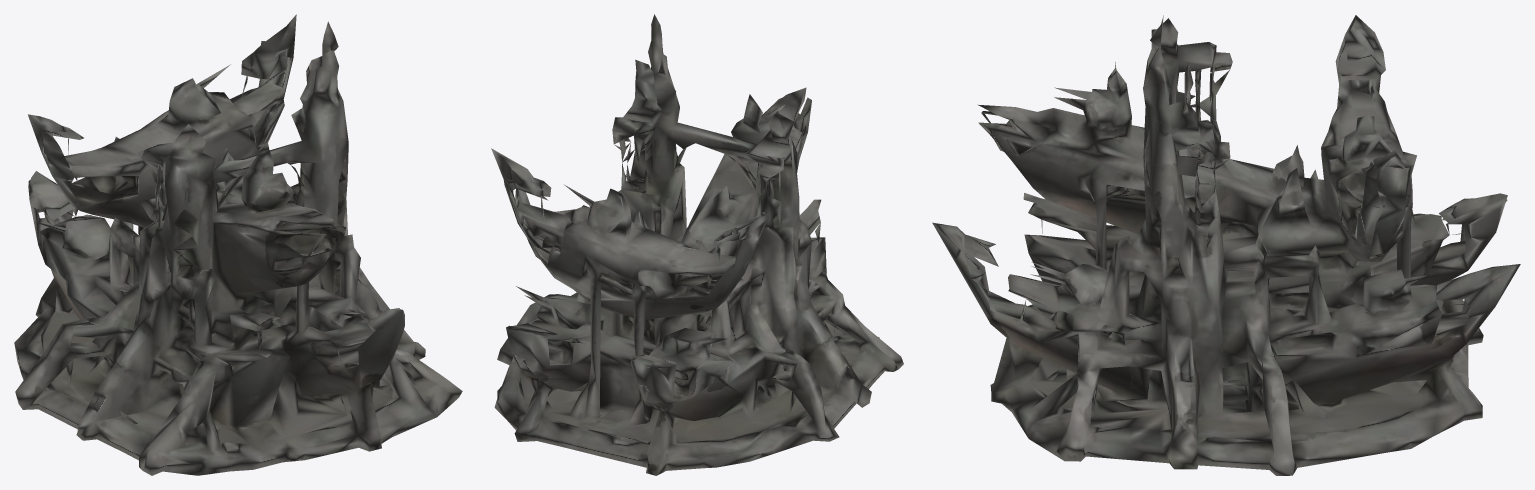
File: monument_ancient_war_cemetery.glb
3 renders of one model, left to right at view 1: azimuth 30°, elevation 25°; view 2: azimuth 150°, elevation 25°; view 3: azimuth 270°, elevation 25°, orthographic. The views are drawn at different scales.
Visible parts, largest first — view 1: tripo_node_bd090bb3-846c-4ebd-af04-843b8efeb430; view 2: tripo_node_bd090bb3-846c-4ebd-af04-843b8efeb430; view 3: tripo_node_bd090bb3-846c-4ebd-af04-843b8efeb430.
Boxes of the visible parts, box(x1,y1,x2,y2) form: tripo_node_bd090bb3-846c-4ebd-af04-843b8efeb430: box(14, 14, 462, 475); tripo_node_bd090bb3-846c-4ebd-af04-843b8efeb430: box(491, 14, 903, 475); tripo_node_bd090bb3-846c-4ebd-af04-843b8efeb430: box(932, 15, 1520, 475).
Size of the model in its own units: 0.7791 by 0.7367 by 0.98.
1 material, 1 textured.
